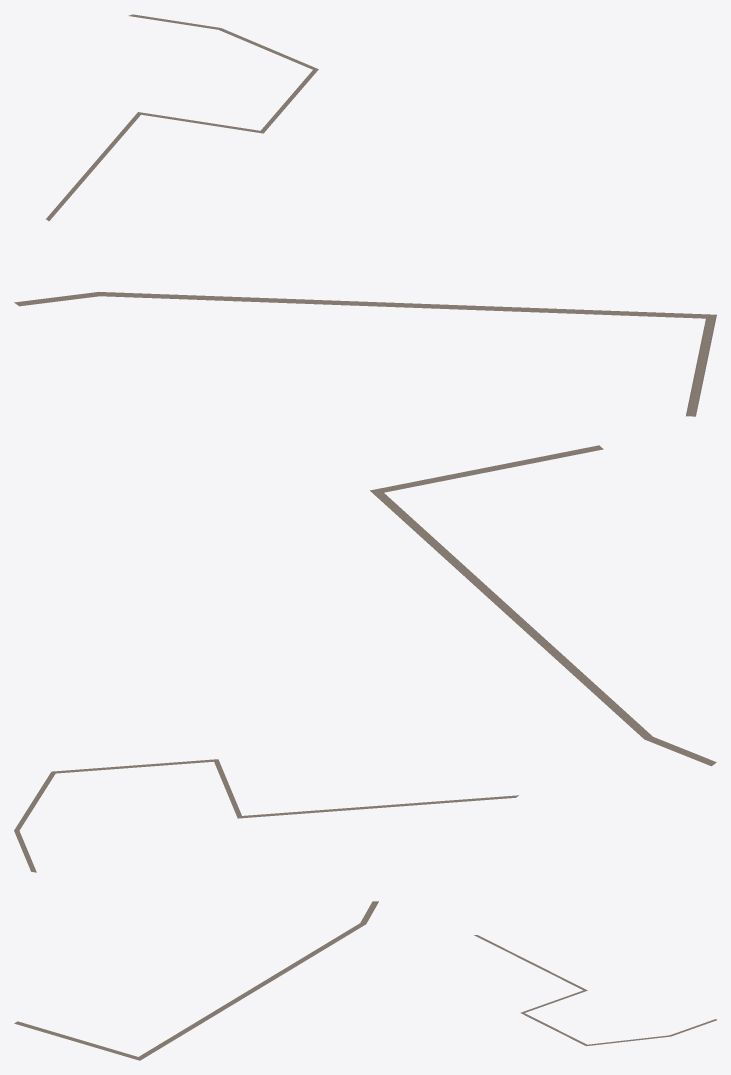
The model's file is kd_connection_town-ground_surface_5_45.glb.
3 views of the same model, one above another, from view 1: azimuth 30°, elevation 25°; view 2: azimuth 150°, elevation 25°; view 3: azimuth 270°, elevation 25° (orthographic). The views are drawn at different scales.
Parts seen in each view (by area): view 1: kd_connection_town-ground_surface_5_45; view 2: kd_connection_town-ground_surface_5_45; view 3: kd_connection_town-ground_surface_5_45.
Part boxes in pixels (<box>): kd_connection_town-ground_surface_5_45: <box>14,14,716,416</box>; kd_connection_town-ground_surface_5_45: <box>14,445,716,872</box>; kd_connection_town-ground_surface_5_45: <box>14,901,716,1060</box>.
Bounding box in the file's own units: 23.39 × 1.91e-06 × 43.52.
Materials: 1 (1 with a texture image).
